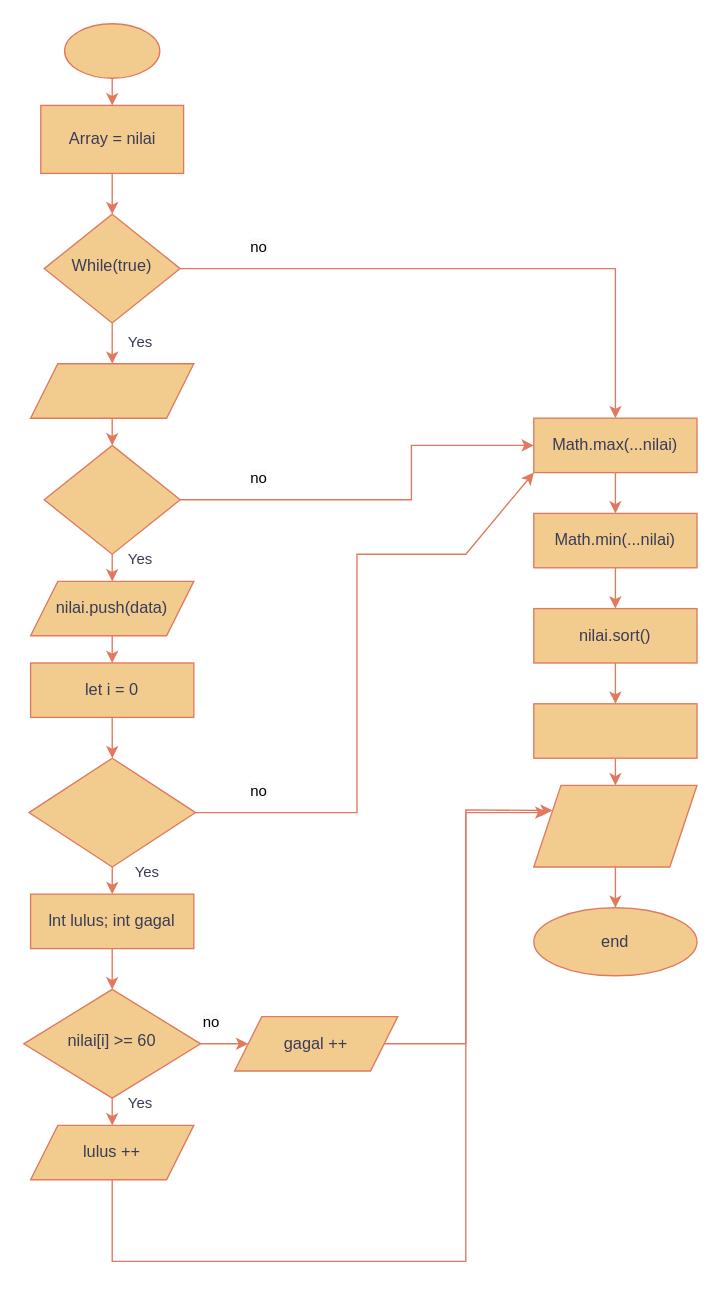
The diagram is 721 pixels wide and 1296 high, and some of its shapes have lost their labels. Here are the shapes that lost their labels. From the top down, the centre of each, then its label:
At [111,50]: "Start".
At [111,390]: "input data".
At [111,499]: "nilai === exit".
At [614,730]: "nilai.filter()".
At [112,812]: "i < nilai.length".
At [614,825]: "Result".
